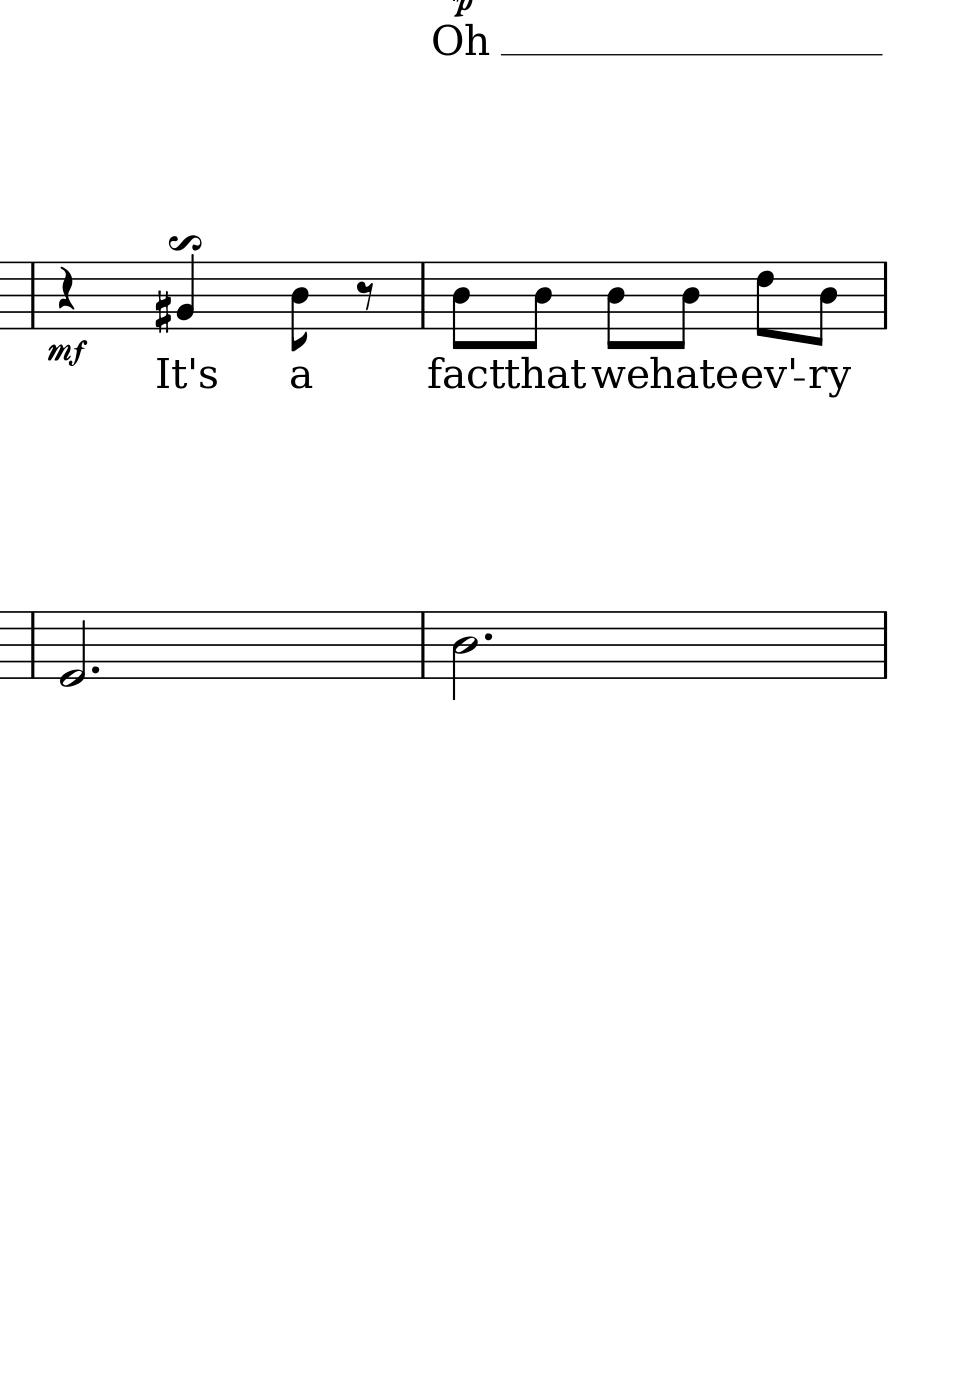2_0: (56, 608, 87, 690)
2_4: (450, 609, 477, 702)
4_2: (176, 252, 197, 332)
8_4: (658, 257, 704, 353), (515, 260, 555, 352), (803, 258, 839, 350), (449, 259, 478, 353), (602, 259, 631, 352), (288, 259, 310, 352)
8_6: (747, 258, 778, 343)
Inverted_turn: (167, 233, 202, 253)
Rests4: (53, 265, 77, 312)
Rests8: (353, 279, 378, 312)
Sharp: (150, 286, 174, 337)
Single_barline: (876, 261, 893, 330), (414, 262, 431, 330), (876, 612, 893, 679), (24, 262, 40, 329), (24, 612, 40, 679), (415, 612, 431, 679)
dot: (482, 630, 494, 643), (88, 663, 101, 676)
mf: (45, 337, 88, 371)
p: (450, 1, 475, 16)
